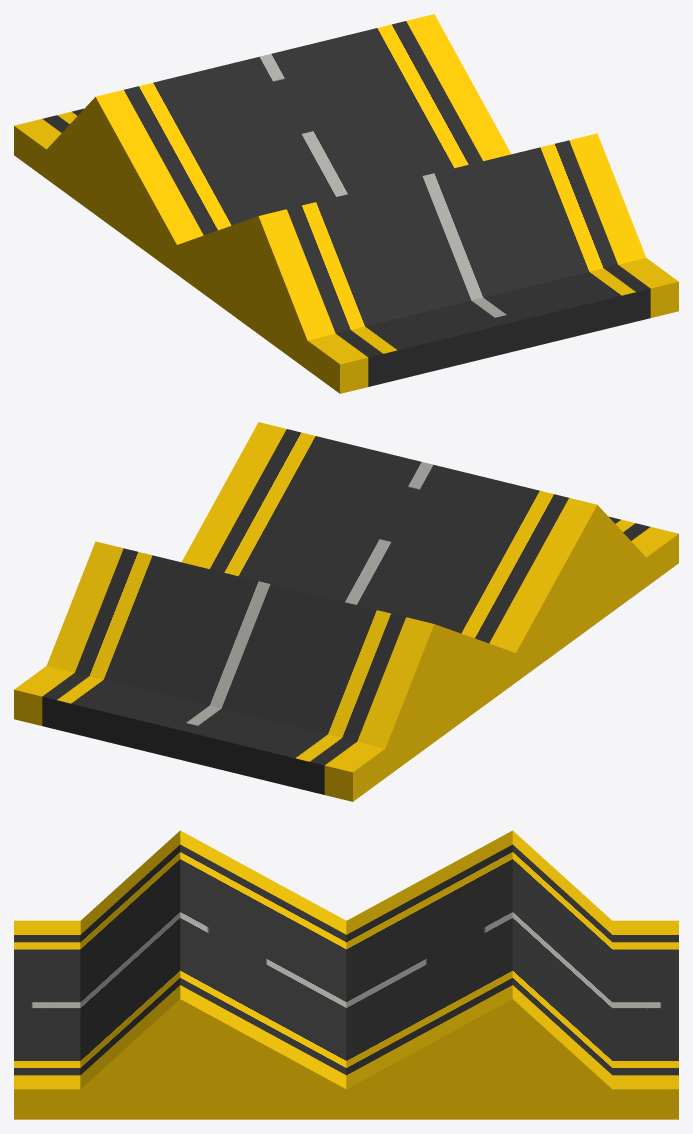
Rendered from Track03.fbx.
3 renders of one model, top to bottom at view 1: azimuth 30°, elevation 25°; view 2: azimuth 150°, elevation 25°; view 3: azimuth 270°, elevation 25°, orthographic.
Parts seen in each view (by area): view 1: Track3; view 2: Track3; view 3: Track3.
Boxes of the visible parts, x1,y1,x2,y2 form: Track3: (14, 14, 678, 393); Track3: (14, 422, 678, 801); Track3: (14, 830, 678, 1119).
Size of the model in its own units: 1200 by 400 by 2000.
